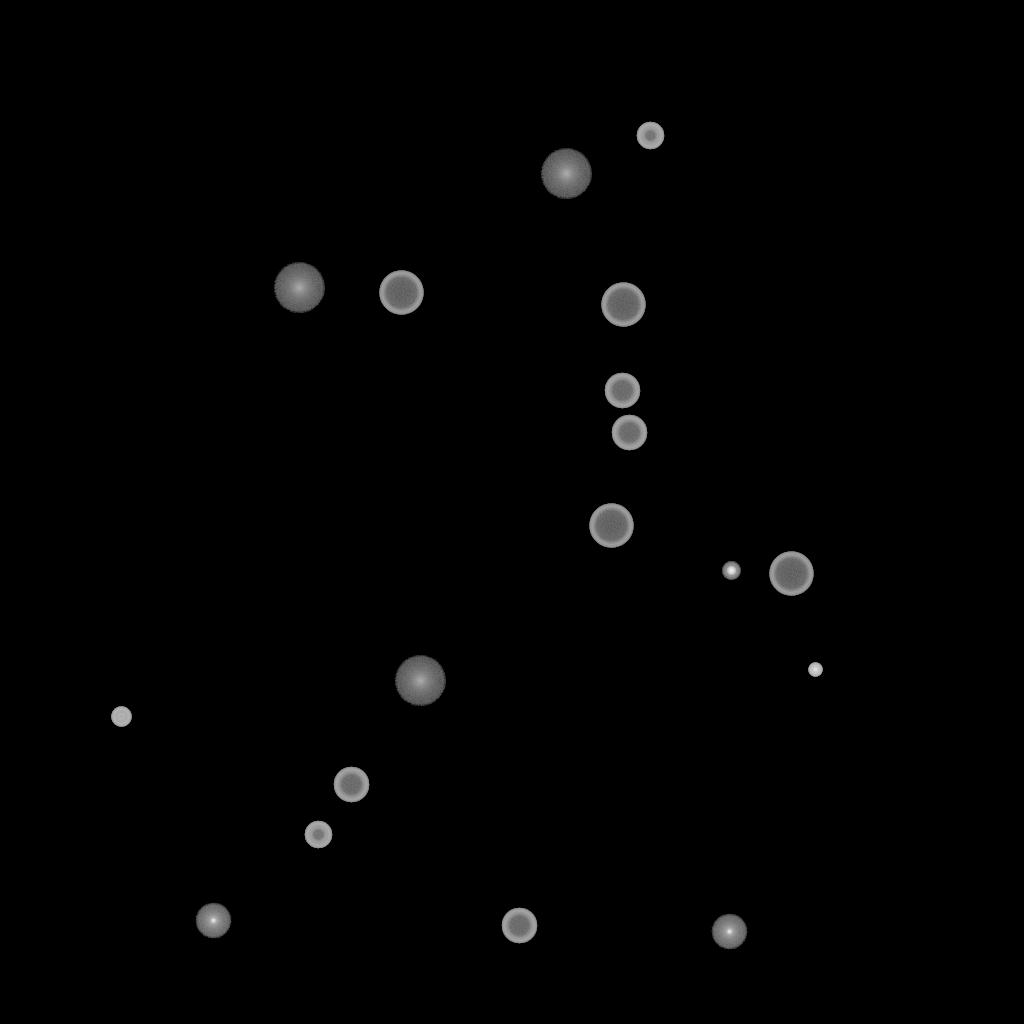depth:-20: (722, 562, 740, 580)
depth:-30: (808, 663, 822, 677)
depth:-40: (111, 707, 131, 727)
depth:-50: (636, 122, 664, 150), (304, 821, 332, 849)
depth:-60: (333, 767, 369, 803), (611, 415, 647, 451), (604, 373, 640, 409), (501, 908, 537, 944)
depth:-70: (589, 504, 633, 548), (379, 271, 423, 315), (769, 552, 813, 596), (601, 283, 645, 327)
depth:0: (711, 914, 747, 950), (195, 903, 231, 939)
depth:20: (394, 656, 446, 706), (540, 149, 592, 199), (273, 263, 325, 313)
